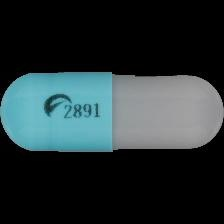0228-2891: (0, 0, 224, 224)
